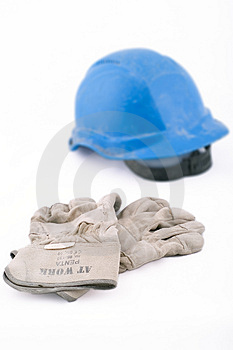helmet: (66, 52, 229, 160)
